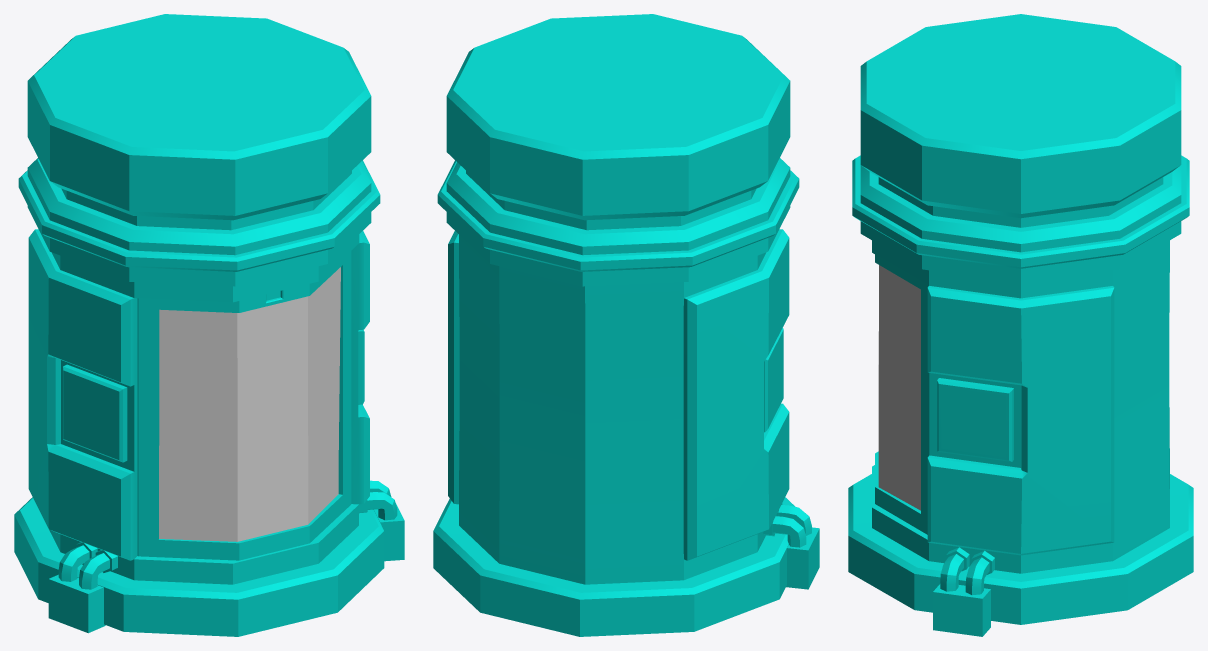
File: TubeC1Closed.fbx
3 views of the same model, side by side, from view 1: azimuth 30°, elevation 25°; view 2: azimuth 150°, elevation 25°; view 3: azimuth 270°, elevation 25° (orthographic). The views are drawn at different scales.
Visible parts, largest first — view 1: pCylinder131; view 2: pCylinder131; view 3: pCylinder131.
Boxes of the visible parts, box(x1,y1,x2,y2) form: pCylinder131: box(14, 14, 404, 636); pCylinder131: box(433, 14, 819, 636); pCylinder131: box(848, 14, 1193, 636).
Size of the model in its own units: 322 by 431 by 287.
